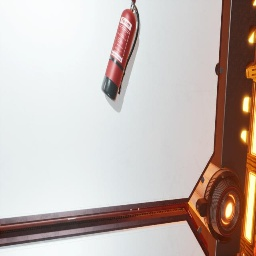FireExtinguisher ]: (101, 0, 139, 102)
